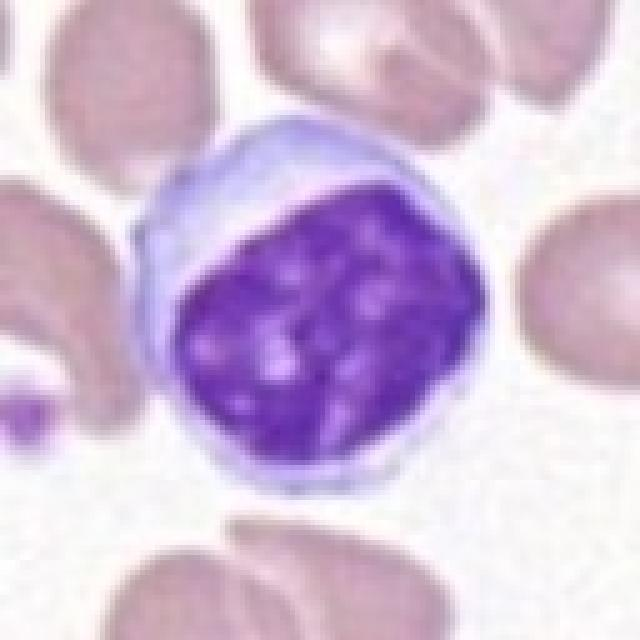lympho: (119, 107, 498, 505)
